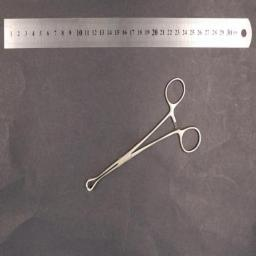Babcock Tissue Forceps: (86, 76, 202, 192)
